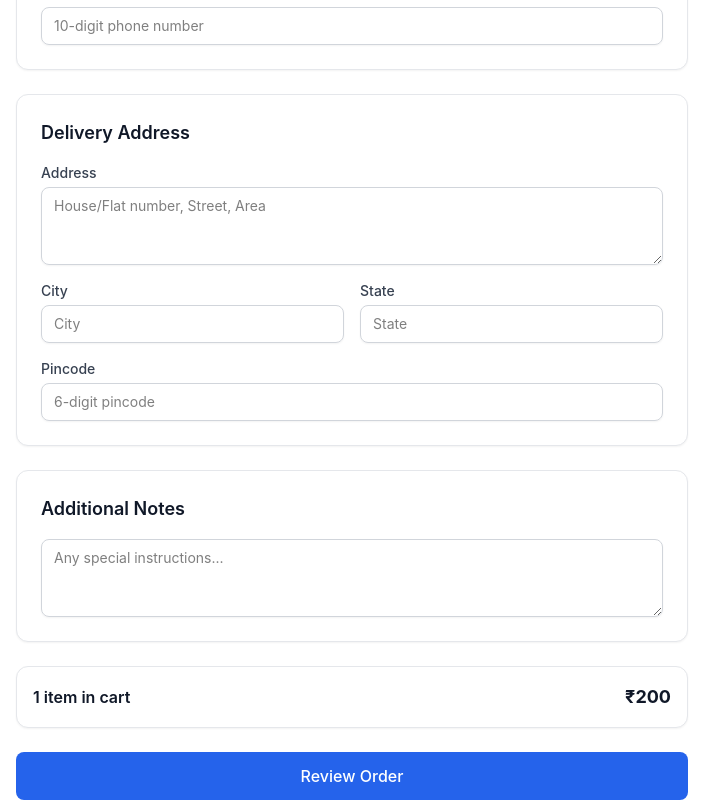
OrderForm › shows validation errors on empty submit
(page scrolled)
Click the button "Review Order". click: (352, 776)
box: [16,752,688,799]
(page scrolled)
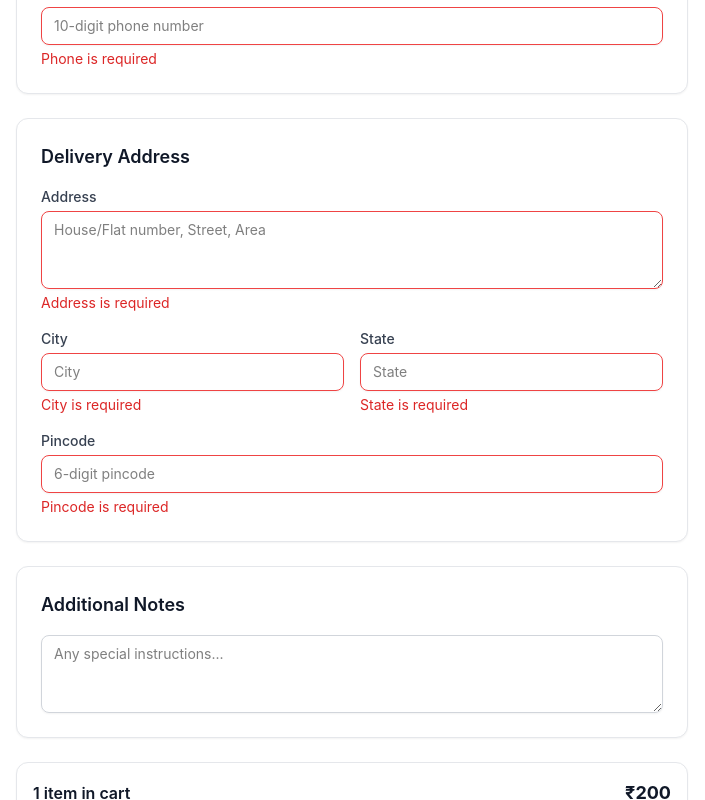
Check: the text "Phone is required" is shown, box [41,50,157,67]
Check: the text "Address is required" is shown, box [41,294,170,311]
